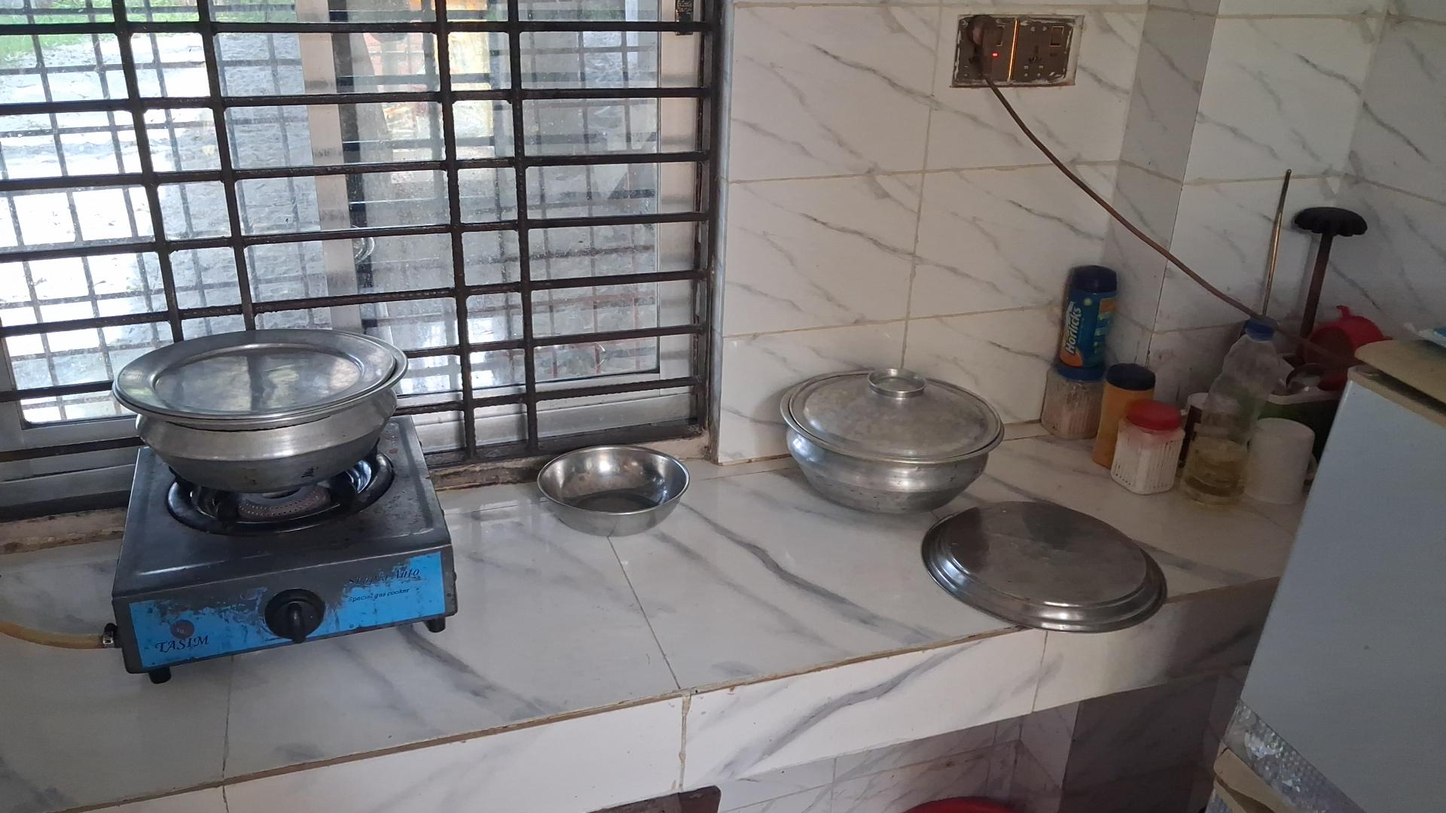Bottle: (1180, 317, 1293, 510)
Bowl: (536, 444, 690, 537)
Cup: (1244, 417, 1315, 504)
Jar: (1110, 400, 1185, 496), (1054, 274, 1119, 382), (1036, 355, 1107, 448)
Plate: (922, 504, 1166, 627)
Pot: (110, 327, 406, 492), (774, 364, 1004, 515)
